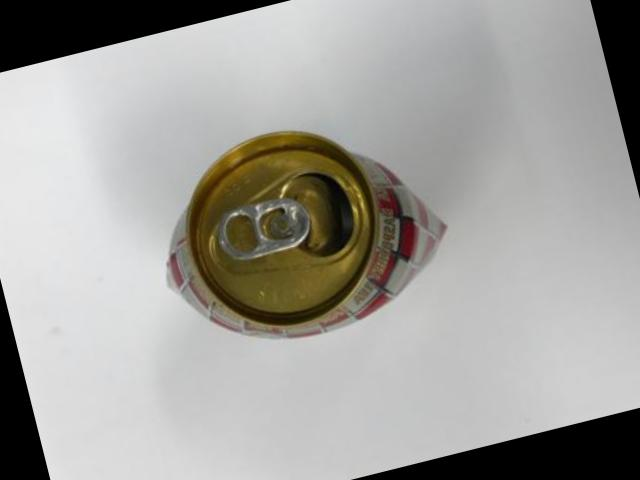metal: (166, 135, 444, 340)
